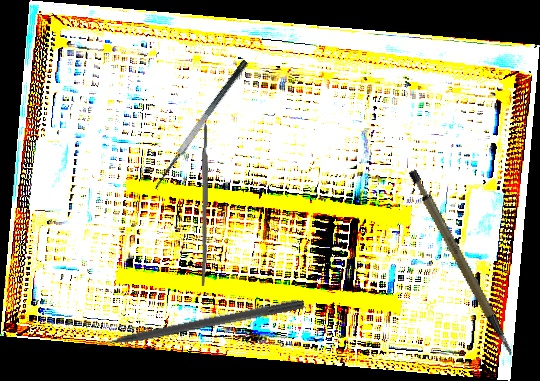Pusher: (77, 296, 306, 353)
Scalpel Handle: (405, 159, 515, 370), (200, 124, 210, 287)
Spatula Surgical: (148, 58, 260, 197)
